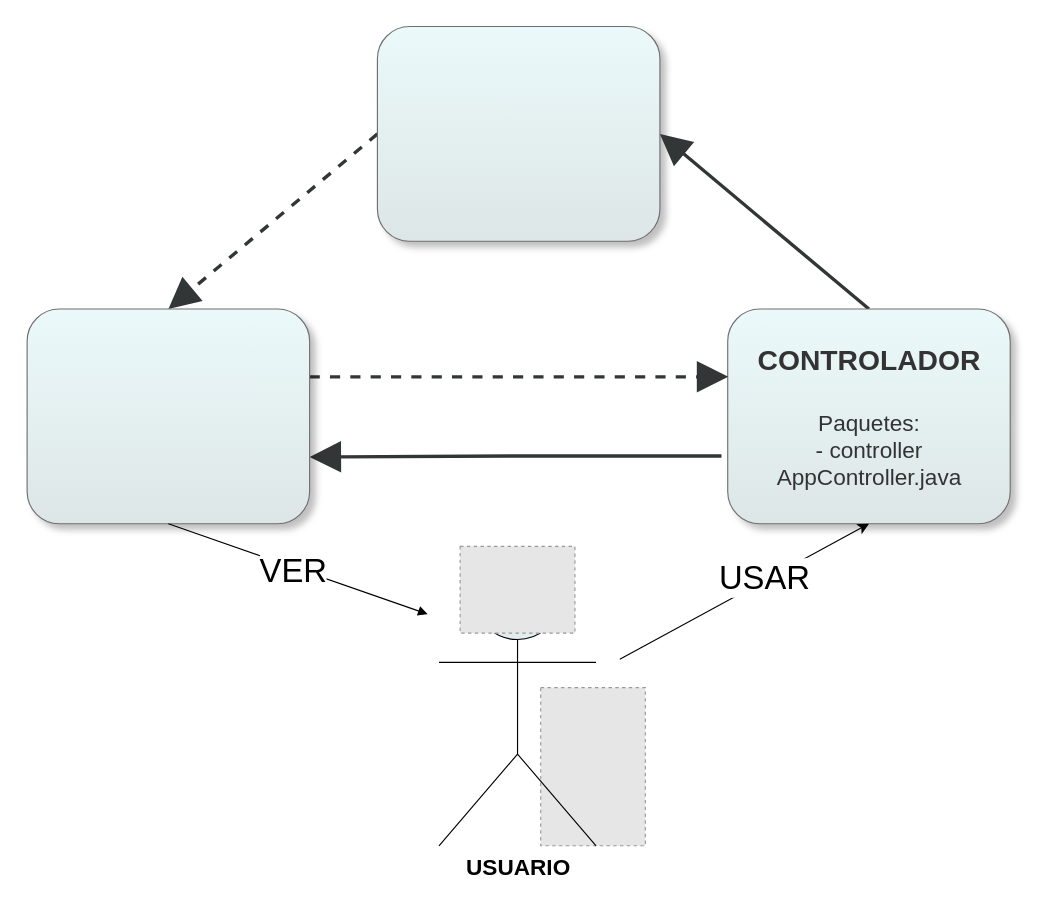
This 1042x901 diagram has some shape labels left out. Grey dashed boxes stand in for pictures. Each missing label, with the centre of its shape:
"MODELO Paquetes: - model - service - auth" goes at point (521, 136).
"VISTA Main (Application.java) Resources: - archivos .fxml - css" goes at point (170, 418).
